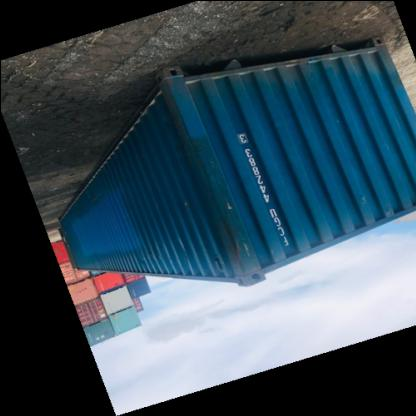Damage: (205, 204, 250, 271), (158, 101, 210, 157), (168, 233, 190, 263)
